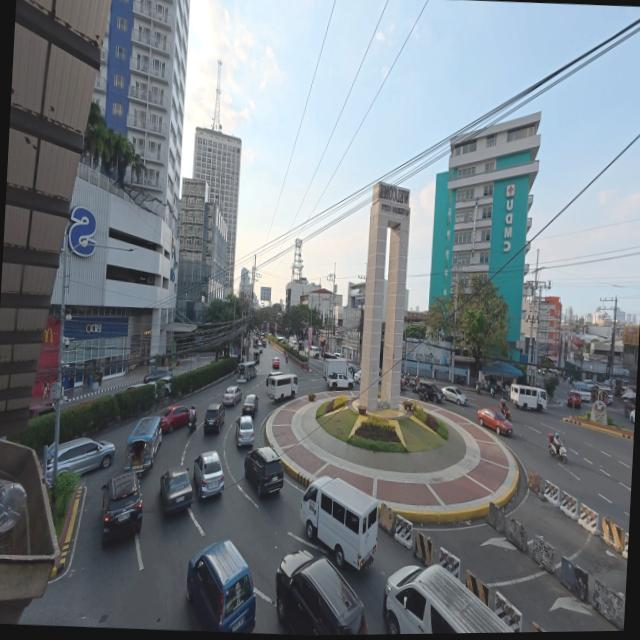car: (272, 543, 370, 636), (187, 534, 260, 633), (100, 467, 146, 548), (40, 433, 115, 478), (242, 448, 288, 501), (161, 405, 199, 436), (475, 408, 515, 437), (234, 414, 256, 447), (201, 406, 224, 437), (438, 384, 468, 406), (568, 387, 593, 408), (222, 385, 242, 406), (565, 390, 584, 409), (240, 394, 258, 414), (622, 386, 636, 402), (270, 355, 284, 369)
motorcycle: (546, 431, 568, 461)
trucks: (322, 354, 360, 390)
vans: (295, 475, 381, 577), (264, 368, 299, 400), (511, 384, 548, 411), (306, 346, 321, 358)
